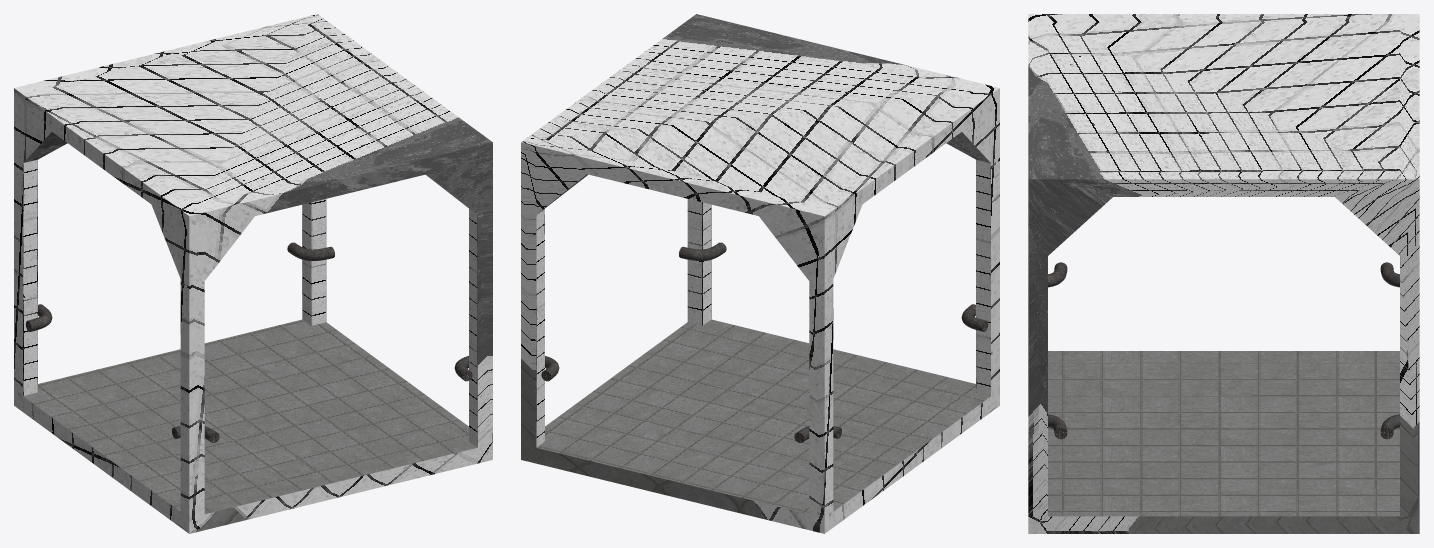
Rendered from CorridorShuin.glb.
3 renders of one model, left to right at view 1: azimuth 30°, elevation 25°; view 2: azimuth 150°, elevation 25°; view 3: azimuth 270°, elevation 25°, orthographic. The views are drawn at different scales.
Parts seen in each view (by area): view 1: mtreo-corridor, BézierCurve.004; view 2: mtreo-corridor, BézierCurve.007; view 3: mtreo-corridor.
Part boxes in pixels (x1,y1,x2,y2): mtreo-corridor: (14,14,492,533); BézierCurve.004: (287,242,334,260); mtreo-corridor: (521,14,999,533); BézierCurve.007: (679,242,726,260); mtreo-corridor: (1028,14,1419,533).
Size of what is drawn, in the model's own units: 3 by 3 by 3.
2 materials, 2 textured.
